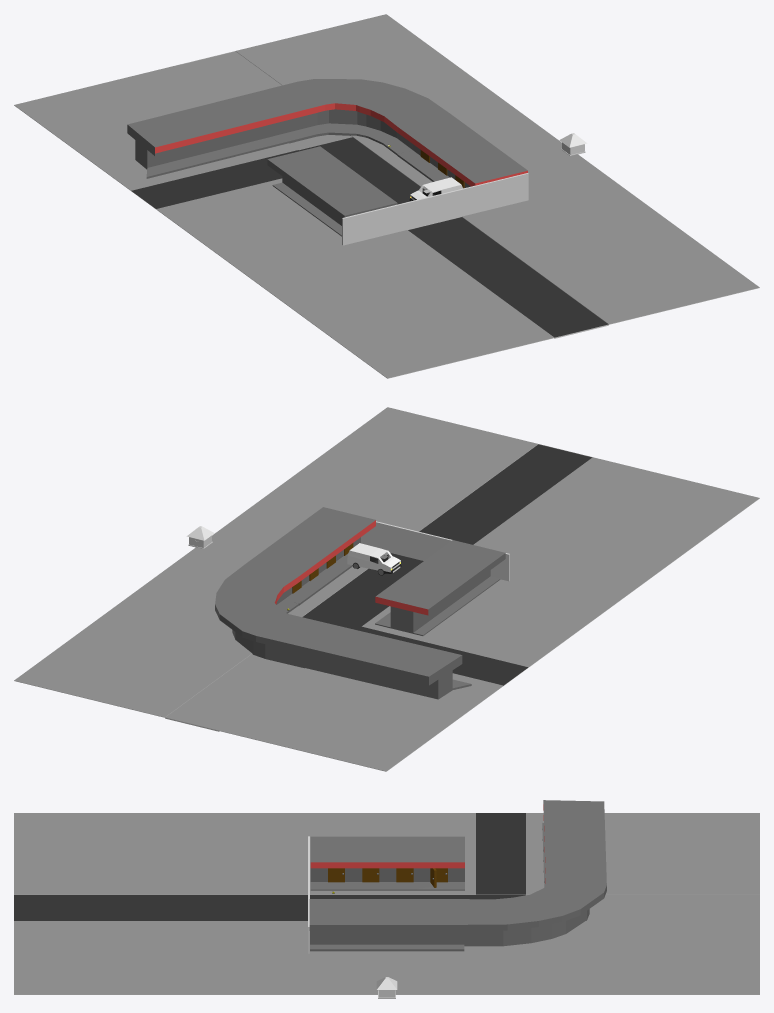
Rendered from Buildings_For_SAM.glb.
3 views of the same model, one above another, from view 1: azimuth 30°, elevation 25°; view 2: azimuth 150°, elevation 25°; view 3: azimuth 270°, elevation 25° (orthographic).
Parts seen in each view (by area): view 1: Cube.002, Cube.001, Cube.003, Cube.005, Cube.008; view 2: Cube.002, Cube.001, Cube.003, Cube.005, Cube.008; view 3: Cube.002, Cube.001, Cube.003, Cube.
Boxes of the visible parts, <box> form: Cube.002: <box>14,14,759,378</box>; Cube.001: <box>127,79,527,188</box>; Cube.003: <box>267,146,397,236</box>; Cube.005: <box>342,173,528,245</box>; Cube.008: <box>409,177,462,201</box>; Cube.002: <box>14,407,759,771</box>; Cube.001: <box>215,507,471,699</box>; Cube.003: <box>375,540,505,635</box>; Cube.005: <box>361,521,509,581</box>; Cube.008: <box>347,543,401,573</box>; Cube.002: <box>14,813,759,994</box>; Cube.001: <box>309,800,606,951</box>; Cube.003: <box>310,836,464,890</box>; Cube: <box>376,977,397,998</box>.
Size of the model in its own units: 443 by 61.78 by 752.
